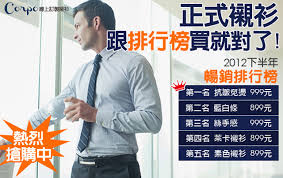F_shirt: (25, 45, 163, 158)
F_tie: (77, 54, 104, 154)
